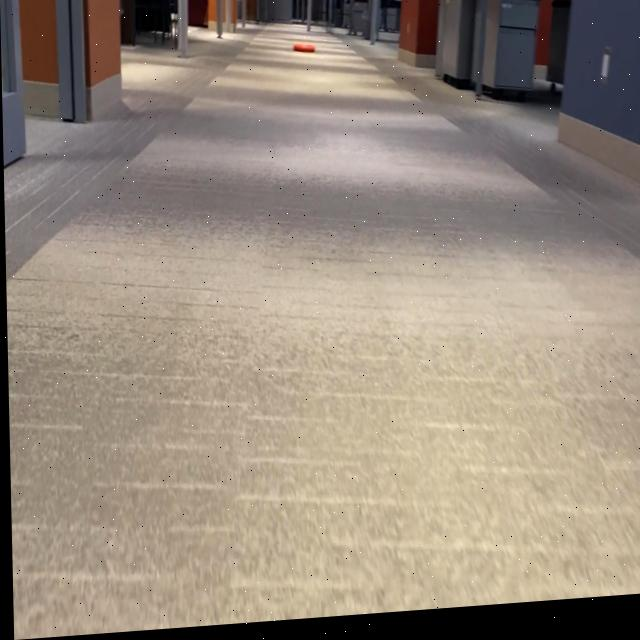note: (293, 44, 316, 61)
